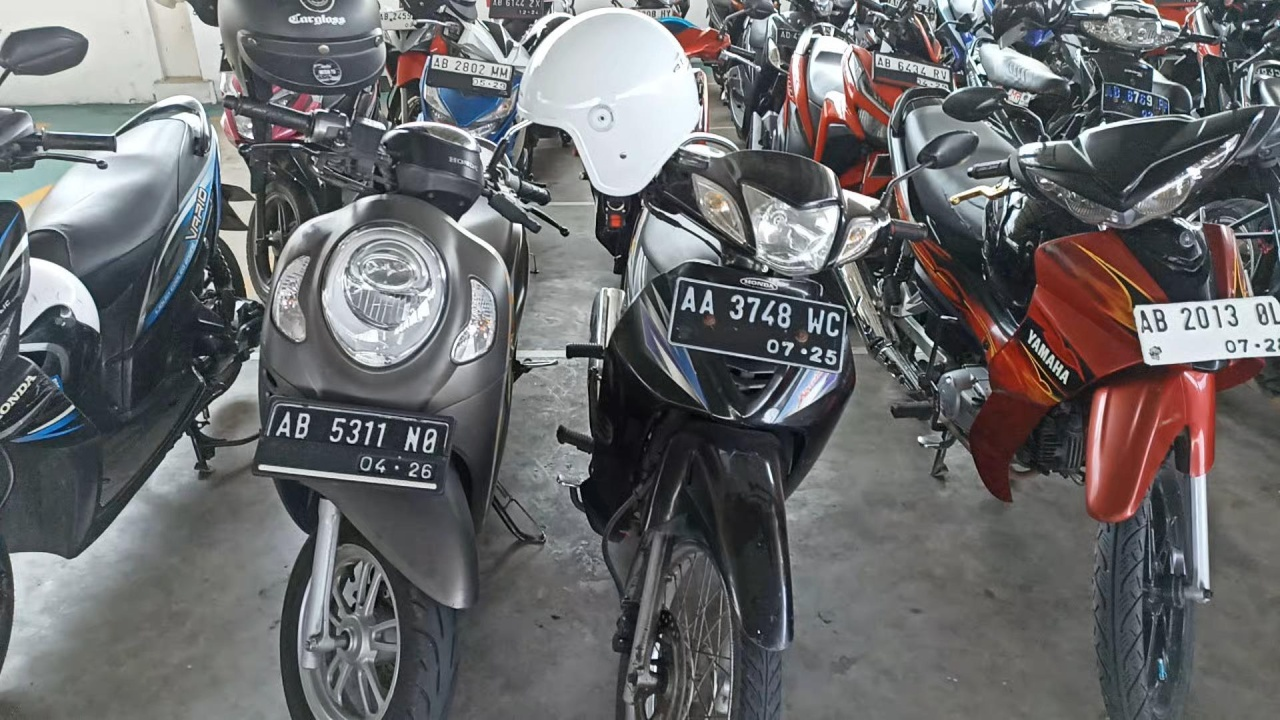plate: (257, 398, 451, 491), (667, 278, 849, 374), (1135, 294, 1280, 366), (427, 52, 514, 96), (873, 51, 952, 94), (490, 0, 543, 19)
